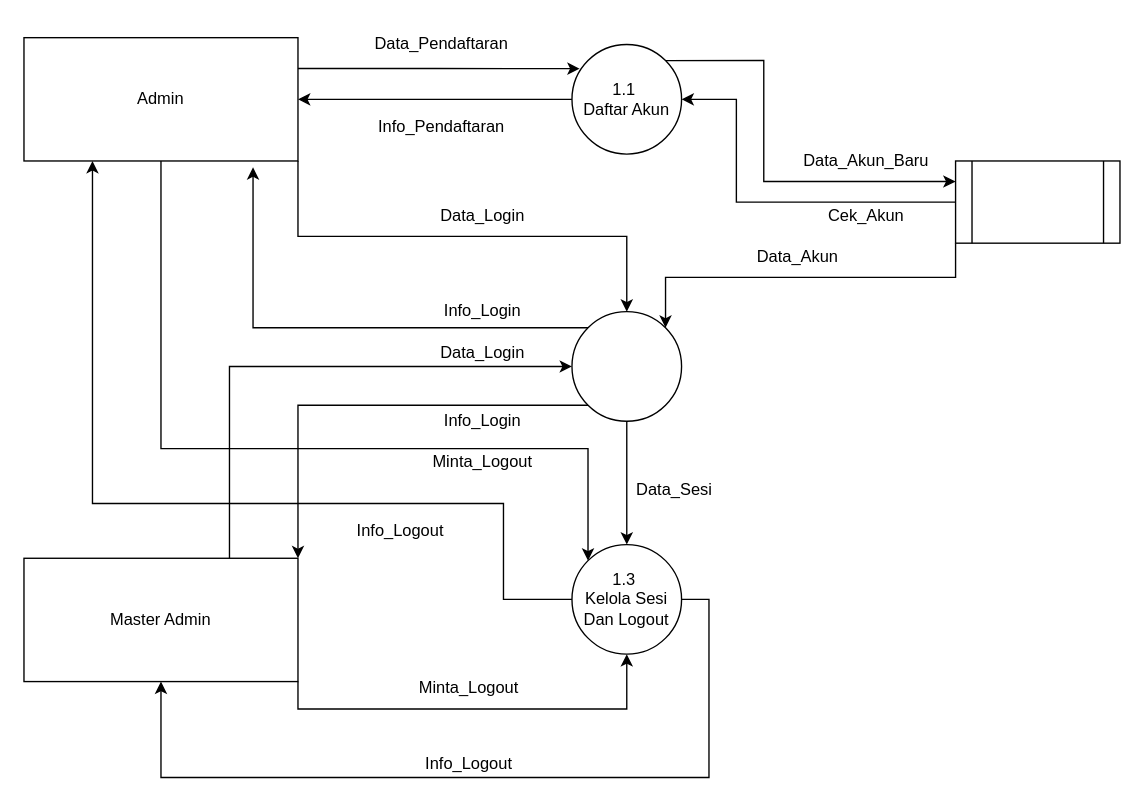
Image size: 1144x812. Some labels were removed from this diagram. The centre of each missing label's shape, as x and y in pixels:
"1.2 Validasi Login" belongs at point 626,365.
"Tb_Users" belongs at point 1037,201.
